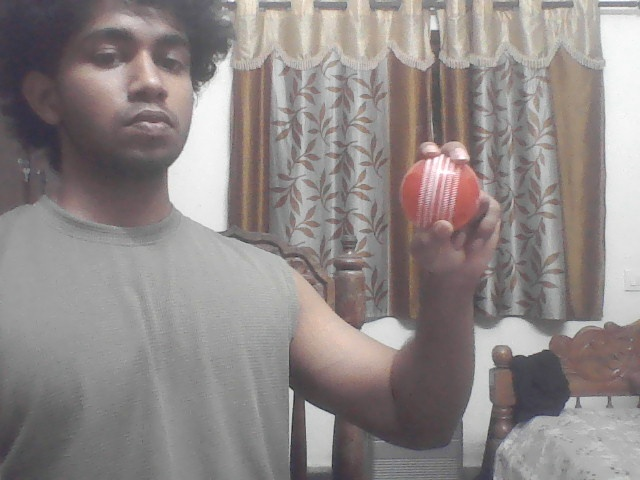cricket_ball: (398, 158, 485, 237)
